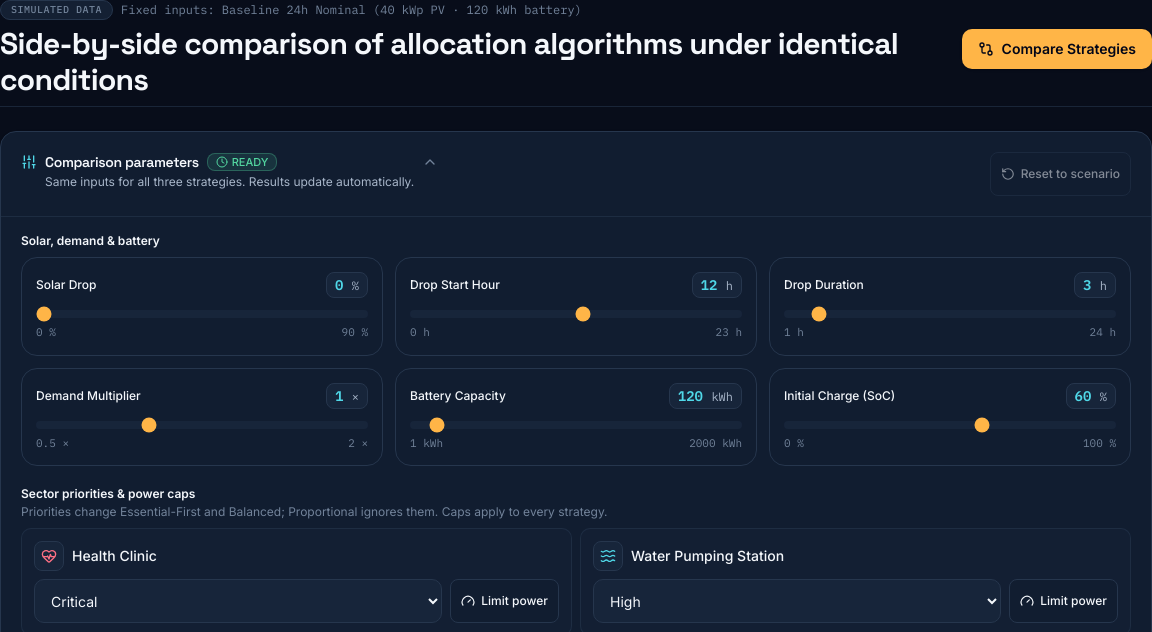
Test case: StrategyLabPage (P4-T5, P4-T7) › comparison parameters panel (PZ-T1..T4) › collapses and expands the panel
Click the button "Comparison parameters" at (230, 174), box [21,152,438,196]
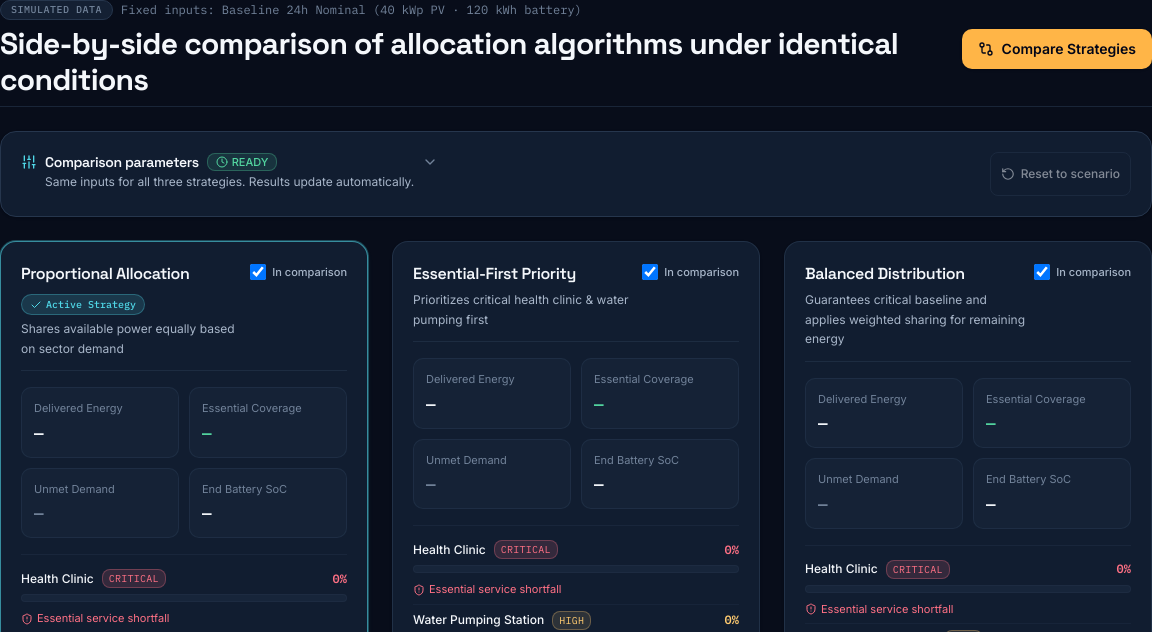
Expected: the field labelled "Solar Drop" is not shown
Now the button "Comparison parameters" is collapsed, box [21,152,438,196]
